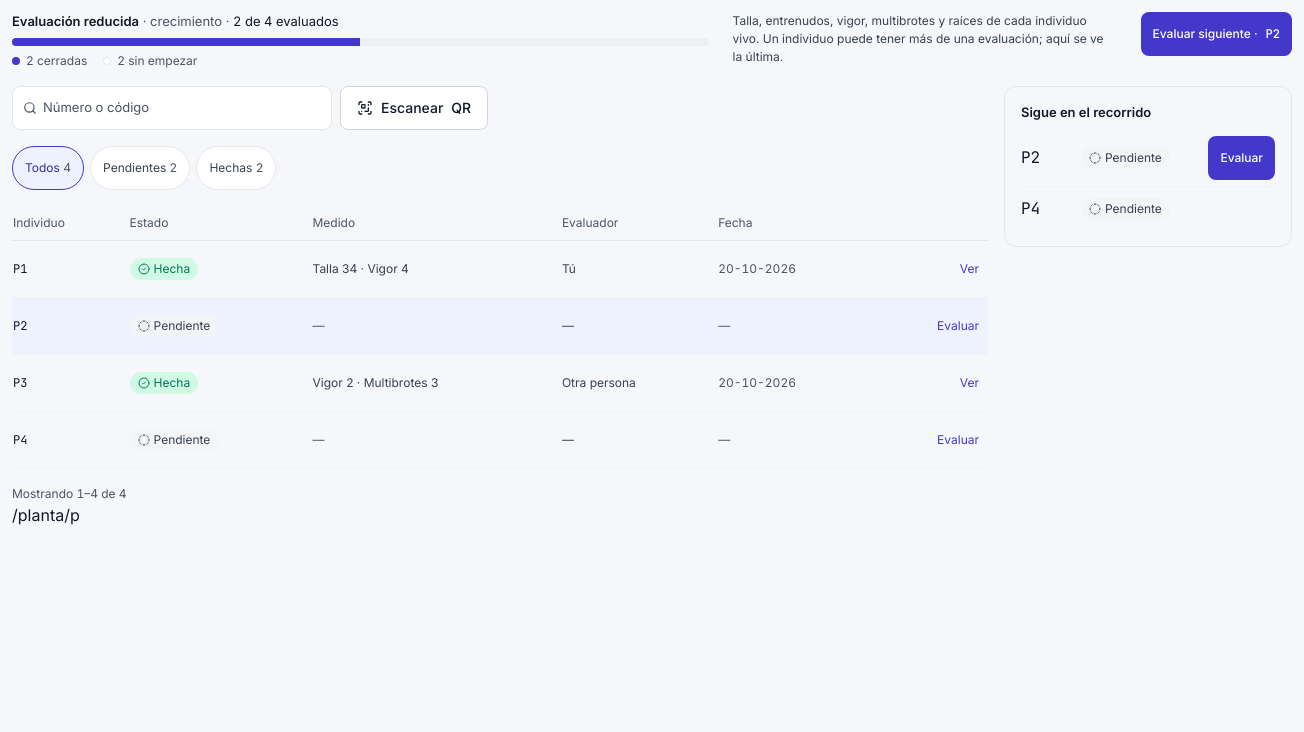
Test: el filtro «Pendientes» deja solo los sin evaluar
What coordinates should you click on to do the following:
click the button "Pendientes 2"
I would click on:
 (140, 168)
Its box is [90,146,190,190].
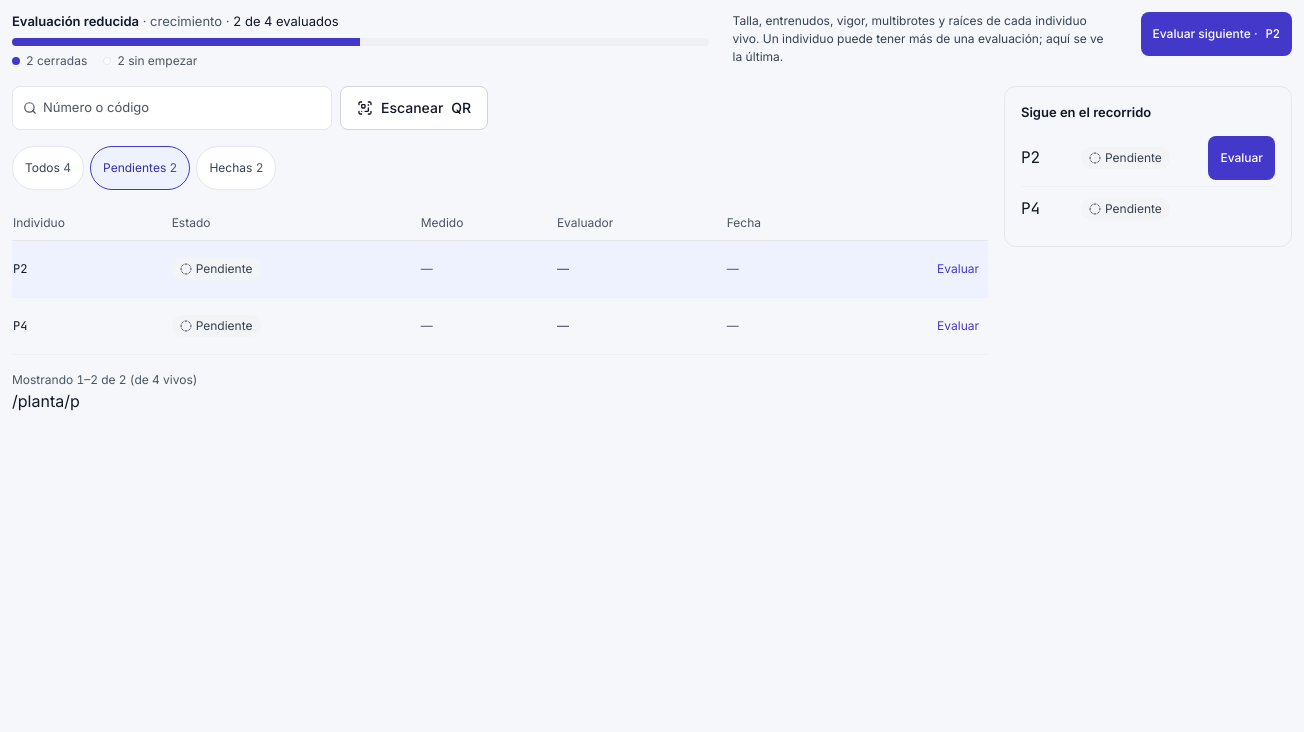
Expected: the button "P2" is shown, [13,246,27,290]
Result: the button "P1" is gone
